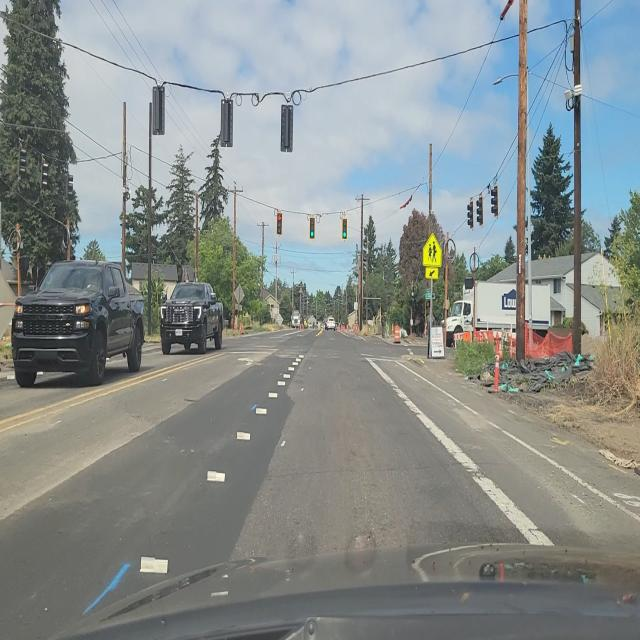car: (12, 260, 146, 386), (162, 282, 227, 355), (325, 316, 336, 332), (291, 315, 300, 329)
delineator: (422, 233, 442, 278), (493, 334, 501, 394), (353, 324, 356, 332)
